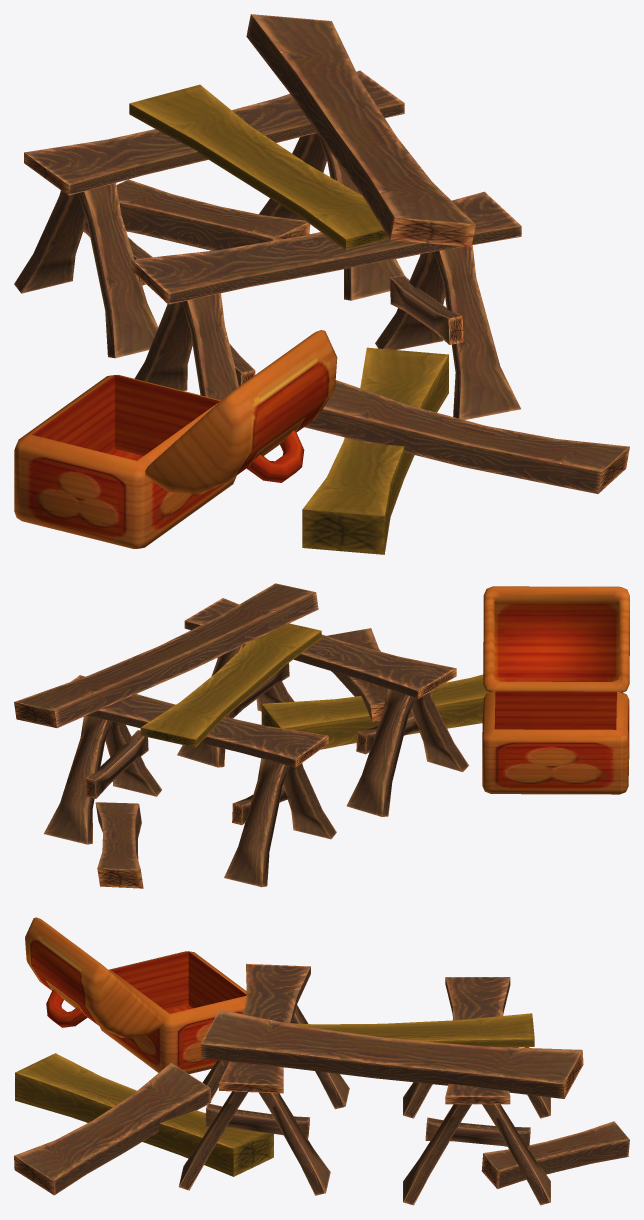
The model's file is INST_HTOWN_WORKAREA.fbx.
The picture shows the model from 3 angles, top to bottom: view 1: azimuth 30°, elevation 25°; view 2: azimuth 150°, elevation 25°; view 3: azimuth 270°, elevation 25°; orthographic projection. The views are drawn at different scales.
Visible parts, largest first — view 1: INST_HTOWN_WORKAREA; view 2: INST_HTOWN_WORKAREA; view 3: INST_HTOWN_WORKAREA.
Part boxes in pixels (box(x1,y1,x2,y2)): INST_HTOWN_WORKAREA: box(14, 14, 629, 554); INST_HTOWN_WORKAREA: box(14, 583, 629, 888); INST_HTOWN_WORKAREA: box(14, 917, 629, 1205).
Bounding box in the file's own units: 14923 × 4969 × 19051.
4 materials, 4 textured.
